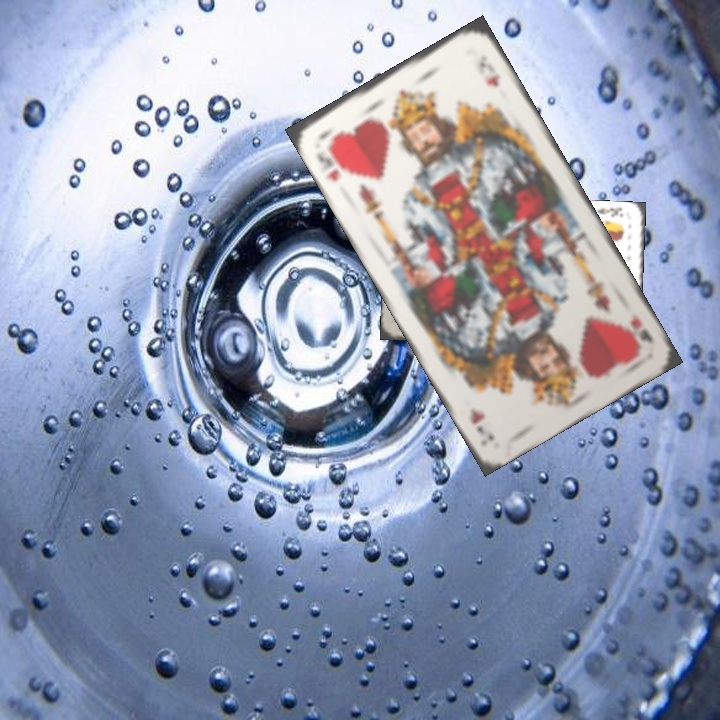EK: (592, 204, 626, 220)
HK: (312, 136, 347, 185), (626, 309, 656, 345)
